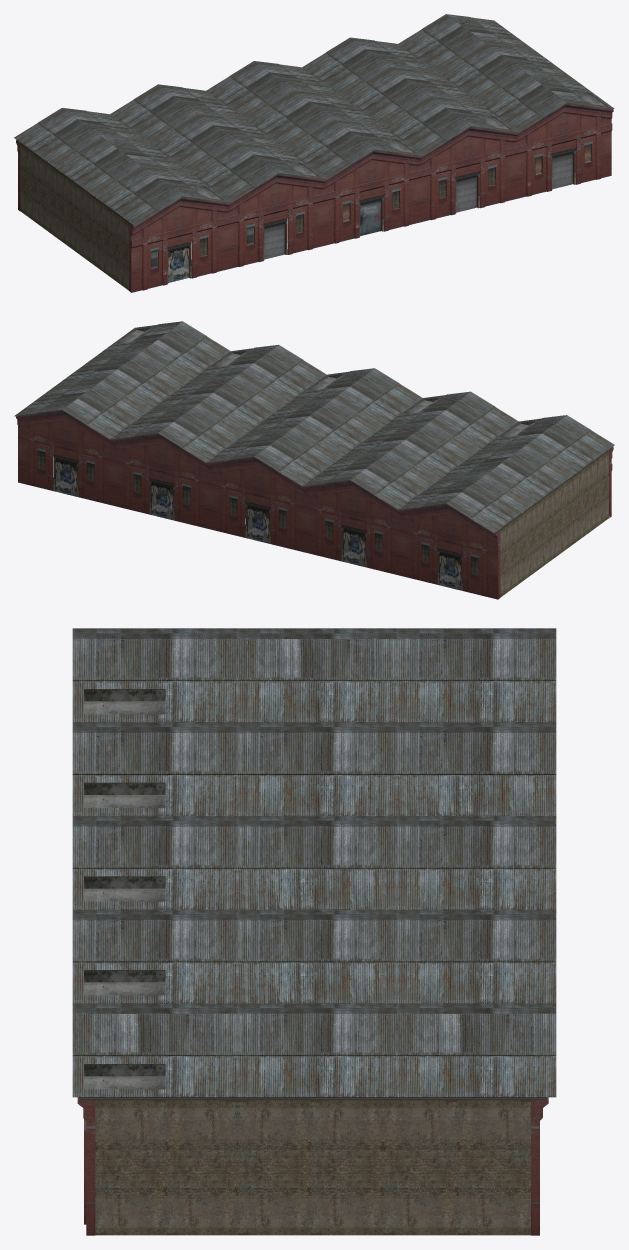
The model's file is Warehouse.obj.
The picture shows the model from 3 angles, top to bottom: view 1: azimuth 30°, elevation 25°; view 2: azimuth 150°, elevation 25°; view 3: azimuth 270°, elevation 25°; orthographic projection. The views are drawn at different scales.
Parts seen in each view (by area): view 1: mainer; view 2: mainer; view 3: mainer.
Boxes of the visible parts, x1,y1,x2,y2 form: mainer: (14, 14, 614, 292); mainer: (14, 321, 614, 599); mainer: (72, 628, 556, 1235).
Bounding box in the file's own units: 247 × 42.94 × 108.
